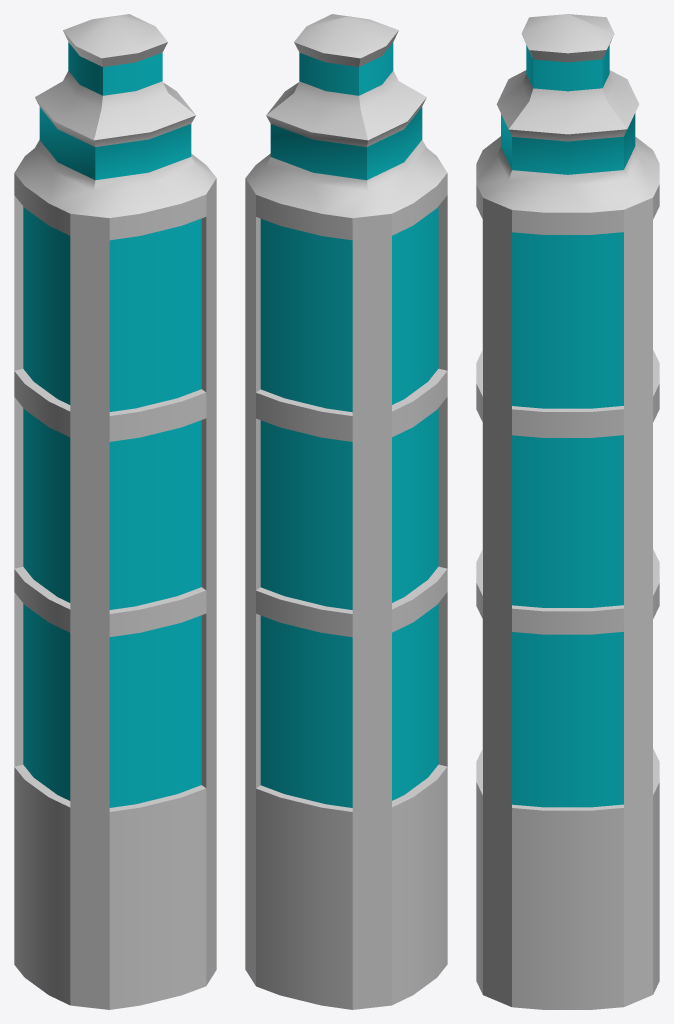
Rendered from Skyscaper(65)2.fbx.
3 views of the same model, side by side, from view 1: azimuth 30°, elevation 25°; view 2: azimuth 150°, elevation 25°; view 3: azimuth 270°, elevation 25° (orthographic).
Visible parts, largest first — view 1: Cube; view 2: Cube; view 3: Cube.
Boxes of the visible parts, x1=… form: Cube: x1=14, y1=14, x2=216, y2=1009; Cube: x1=245, y1=14, x2=447, y2=1009; Cube: x1=476, y1=14, x2=659, y2=1009.
Bounding box in the file's own units: 11.44 × 66.18 × 11.44.
